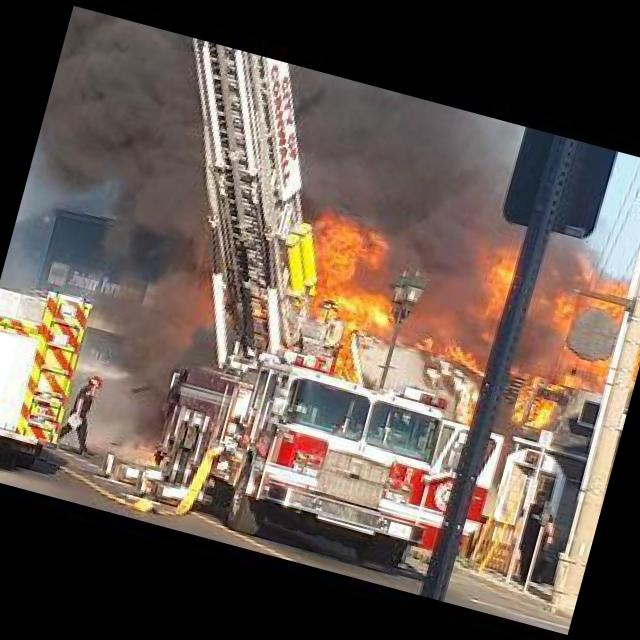Fire: (257, 183, 640, 445)
Smoke: (259, 62, 629, 290), (21, 7, 260, 251), (70, 233, 216, 464)
